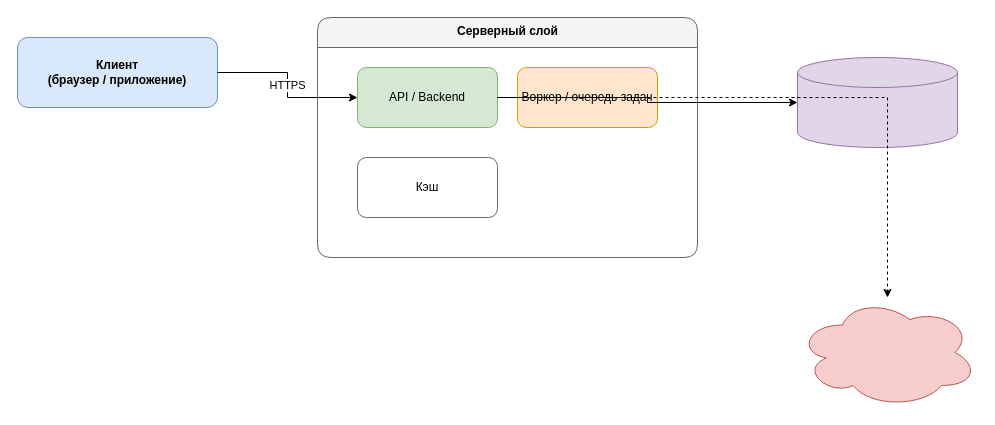
Image size: 995x425. Some labels were removed from this diagram. The centre of each missing label's shape, as x and y in pixels:
"База данных" belongs at pixel 877 102.
"Внешний сервис (API третьей стороны)" belongs at pixel 887 352.
